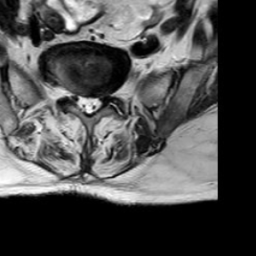CCS_stenosis: (84, 82, 93, 122)
LFS_severe_stenosis: (102, 80, 112, 111)
LLS_normal: (93, 86, 102, 117)
RFS_stenosis: (66, 78, 75, 110)
RLS_normal: (75, 83, 84, 116)
